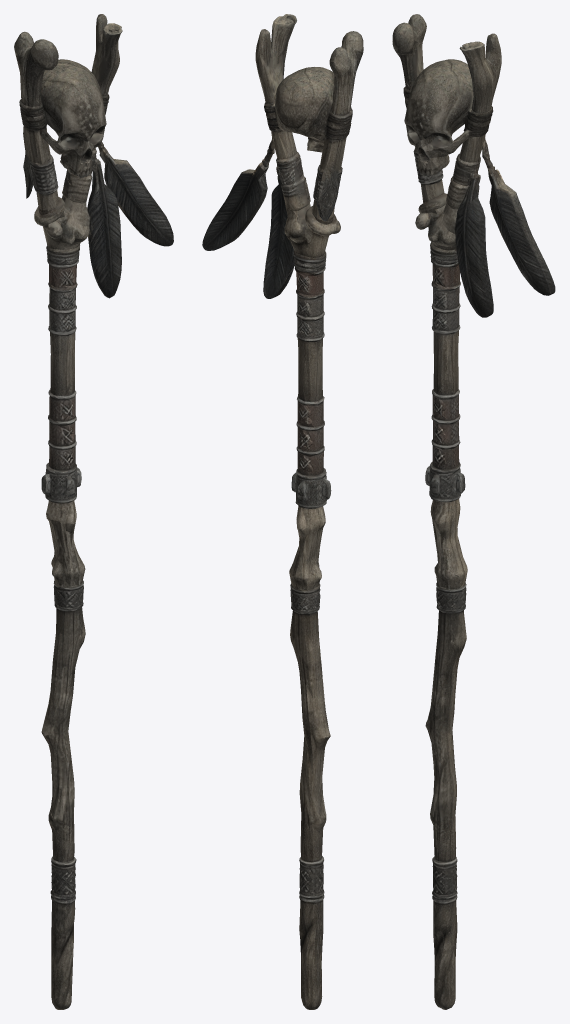
The model's file is cultist_staff.glb.
The picture shows the model from 3 angles, left to right: view 1: azimuth 30°, elevation 25°; view 2: azimuth 150°, elevation 25°; view 3: azimuth 330°, elevation 25°; orthographic projection.
Parts seen in each view (by area): view 1: Mesh_0; view 2: Mesh_0; view 3: Mesh_0.
Boxes of the visible parts, x1,y1,x2,y2 form: Mesh_0: (14, 14, 173, 1009); Mesh_0: (202, 14, 363, 1009); Mesh_0: (392, 14, 555, 1009).
Bounding box in the file's own units: 0.3067 × 1.9 × 0.1557.
1 material, 1 textured.
